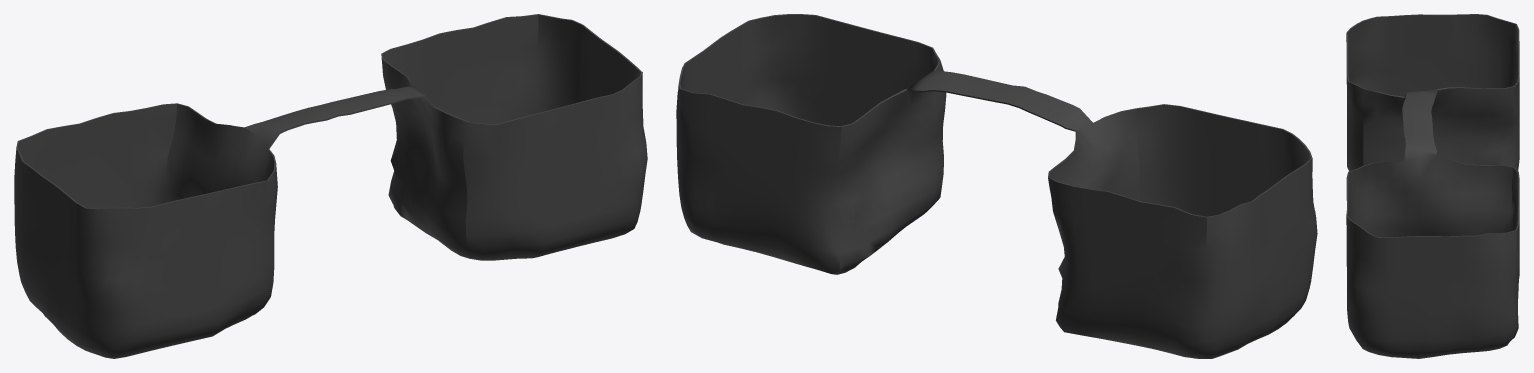
Rendered from tempat barang_aerox.fbx.
The picture shows the model from 3 angles, left to right: view 1: azimuth 30°, elevation 25°; view 2: azimuth 150°, elevation 25°; view 3: azimuth 270°, elevation 25°; orthographic projection. The views are drawn at different scales.
Parts seen in each view (by area): view 1: Cube; view 2: Cube; view 3: Cube.
Part boxes in pixels (<box>): Cube: <box>14,14,647,358</box>; Cube: <box>676,14,1317,358</box>; Cube: <box>1346,14,1519,358</box>.
Bounding box in the file's own units: 114 × 34.42 × 37.46.
